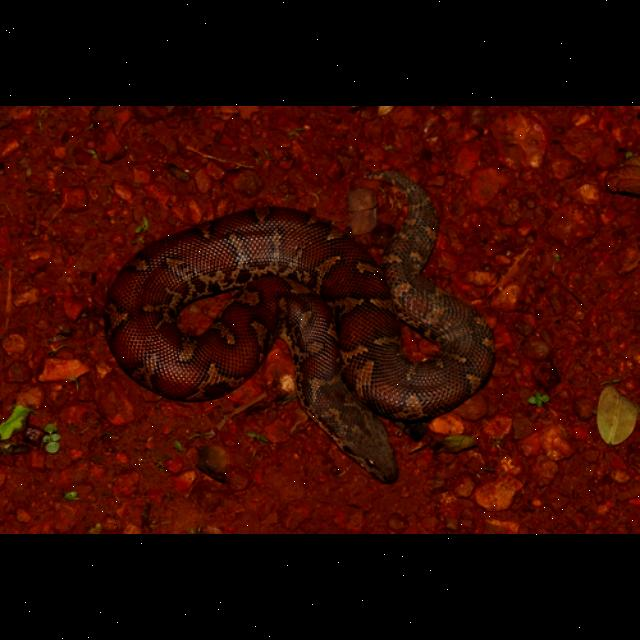snake: (104, 166, 502, 484)
